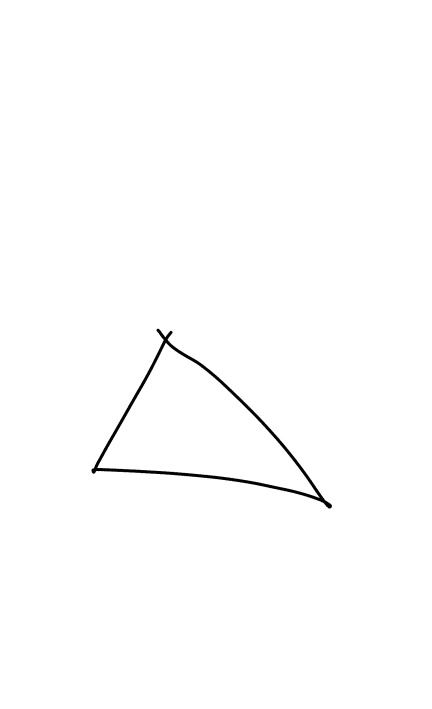Triangle: (85, 323, 339, 518)
